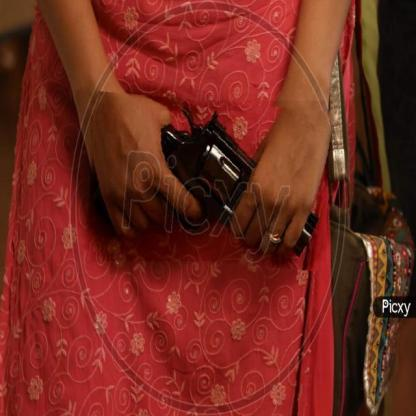handgun: (87, 96, 330, 266)
